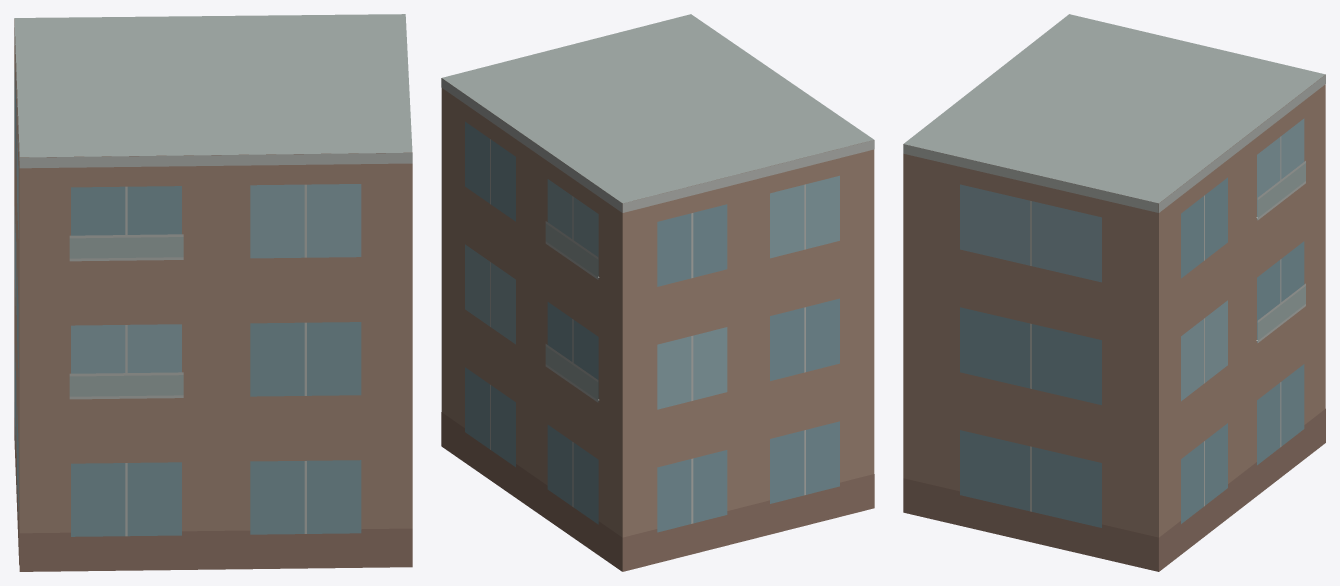
Rendered from survey-upis-32966432.glb.
3 renders of one model, left to right at view 1: azimuth 30°, elevation 25°; view 2: azimuth 150°, elevation 25°; view 3: azimuth 270°, elevation 25°, orthographic. The views are drawn at different scales.
Parts seen in each view (by area): view 1: survey-upis-32966432.tmp; view 2: survey-upis-32966432.tmp; view 3: survey-upis-32966432.tmp.
Boxes of the visible parts, box(x1,y1,x2,y2) form: survey-upis-32966432.tmp: box(14, 14, 412, 571); survey-upis-32966432.tmp: box(441, 14, 874, 571); survey-upis-32966432.tmp: box(903, 14, 1325, 571).
Bounding box in the file's own units: 10.26 × 9.3 × 9.67.
